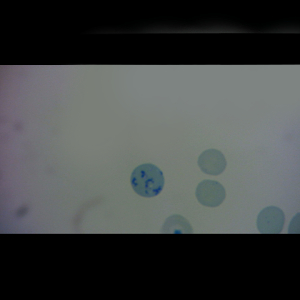aggregate reticulocyte: (129, 162, 166, 199)
erythrocyte: (194, 178, 227, 208), (197, 147, 228, 177), (255, 204, 286, 234)
